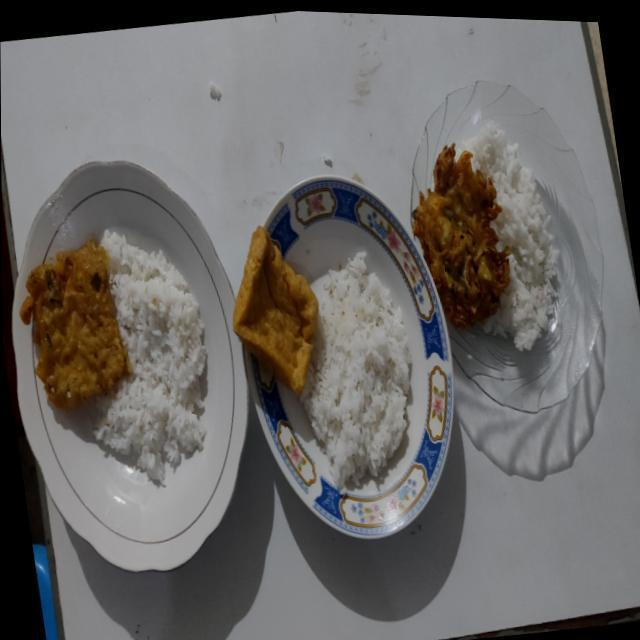nasi_putih: (96, 232, 208, 486), (300, 252, 412, 490), (464, 124, 559, 350)
tahu_goreng: (234, 227, 318, 396)
